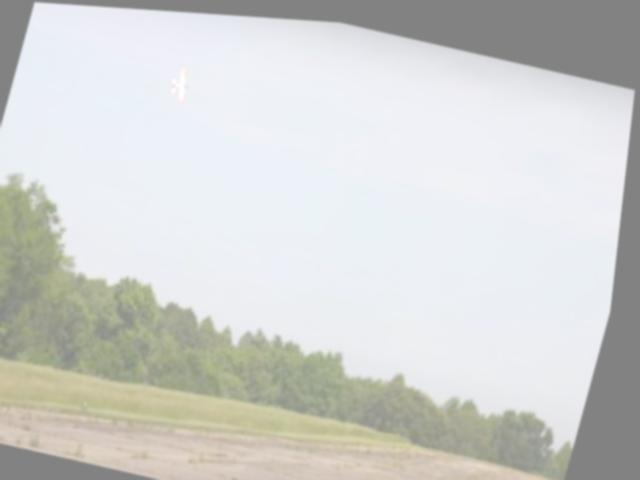uav: (166, 60, 197, 104)
